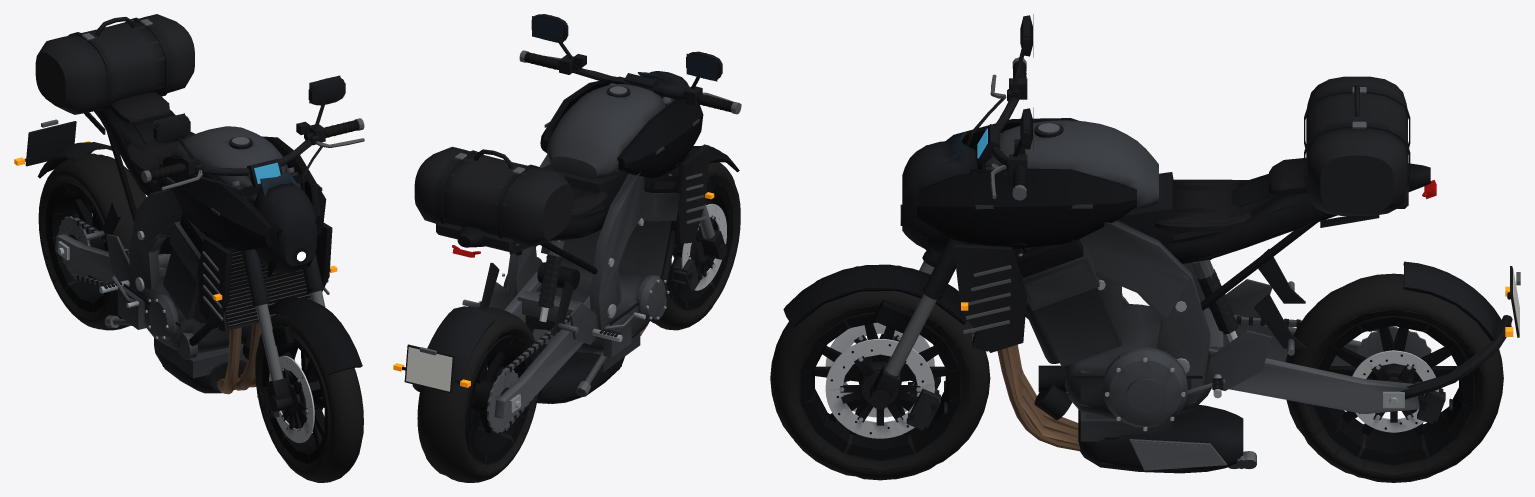
The model's file is bike07_mt09.glb.
3 views of the same model, side by side, from view 1: azimuth 30°, elevation 25°; view 2: azimuth 150°, elevation 25°; view 3: azimuth 270°, elevation 25° (orthographic). The views are drawn at different scales.
Visible parts, largest first — view 1: body (×2), luggage (×2), wheel_rear (×2), wheel_front (×2), handlebar (×2), fork_left (×2), disc_front (×2), fork_right; view 2: body (×2), luggage (×2), wheel_rear (×2), wheel_front (×2), handlebar (×2), fork_left (×2), disc_front (×2); view 3: body (×2), wheel_rear (×2), wheel_front (×2), luggage (×2), disc_front (×2), handlebar (×2), fork_right (×2), disc_rear (×2).
Boxes of the visible parts, box(x1,y1,x2,y2) form: body (×2): box(14, 92, 362, 394); luggage (×2): box(35, 14, 194, 114); wheel_rear (×2): box(38, 153, 161, 330); wheel_front (×2): box(255, 314, 363, 482); handlebar (×2): box(141, 75, 364, 196); fork_left (×2): box(230, 180, 292, 418); disc_front (×2): box(269, 355, 324, 442); fork_right: box(285, 167, 325, 306); body (×2): box(393, 71, 739, 430); luggage (×2): box(414, 146, 572, 252); wheel_rear (×2): box(417, 307, 538, 482); wheel_front (×2): box(650, 162, 740, 330); handlebar (×2): box(519, 14, 741, 114); fork_left (×2): box(662, 97, 727, 291); disc_front (×2): box(671, 203, 726, 290); body (×2): box(783, 118, 1520, 473); wheel_rear (×2): box(1285, 273, 1503, 482); wheel_front (×2): box(770, 291, 990, 480); luggage (×2): box(1304, 76, 1410, 215); disc_front (×2): box(825, 322, 934, 438); handlebar (×2): box(966, 14, 1033, 200); fork_right (×2): box(870, 163, 998, 430); disc_rear (×2): box(1352, 350, 1438, 432).
Size of the model in its own units: 0.84 by 1.23 by 2.05.
